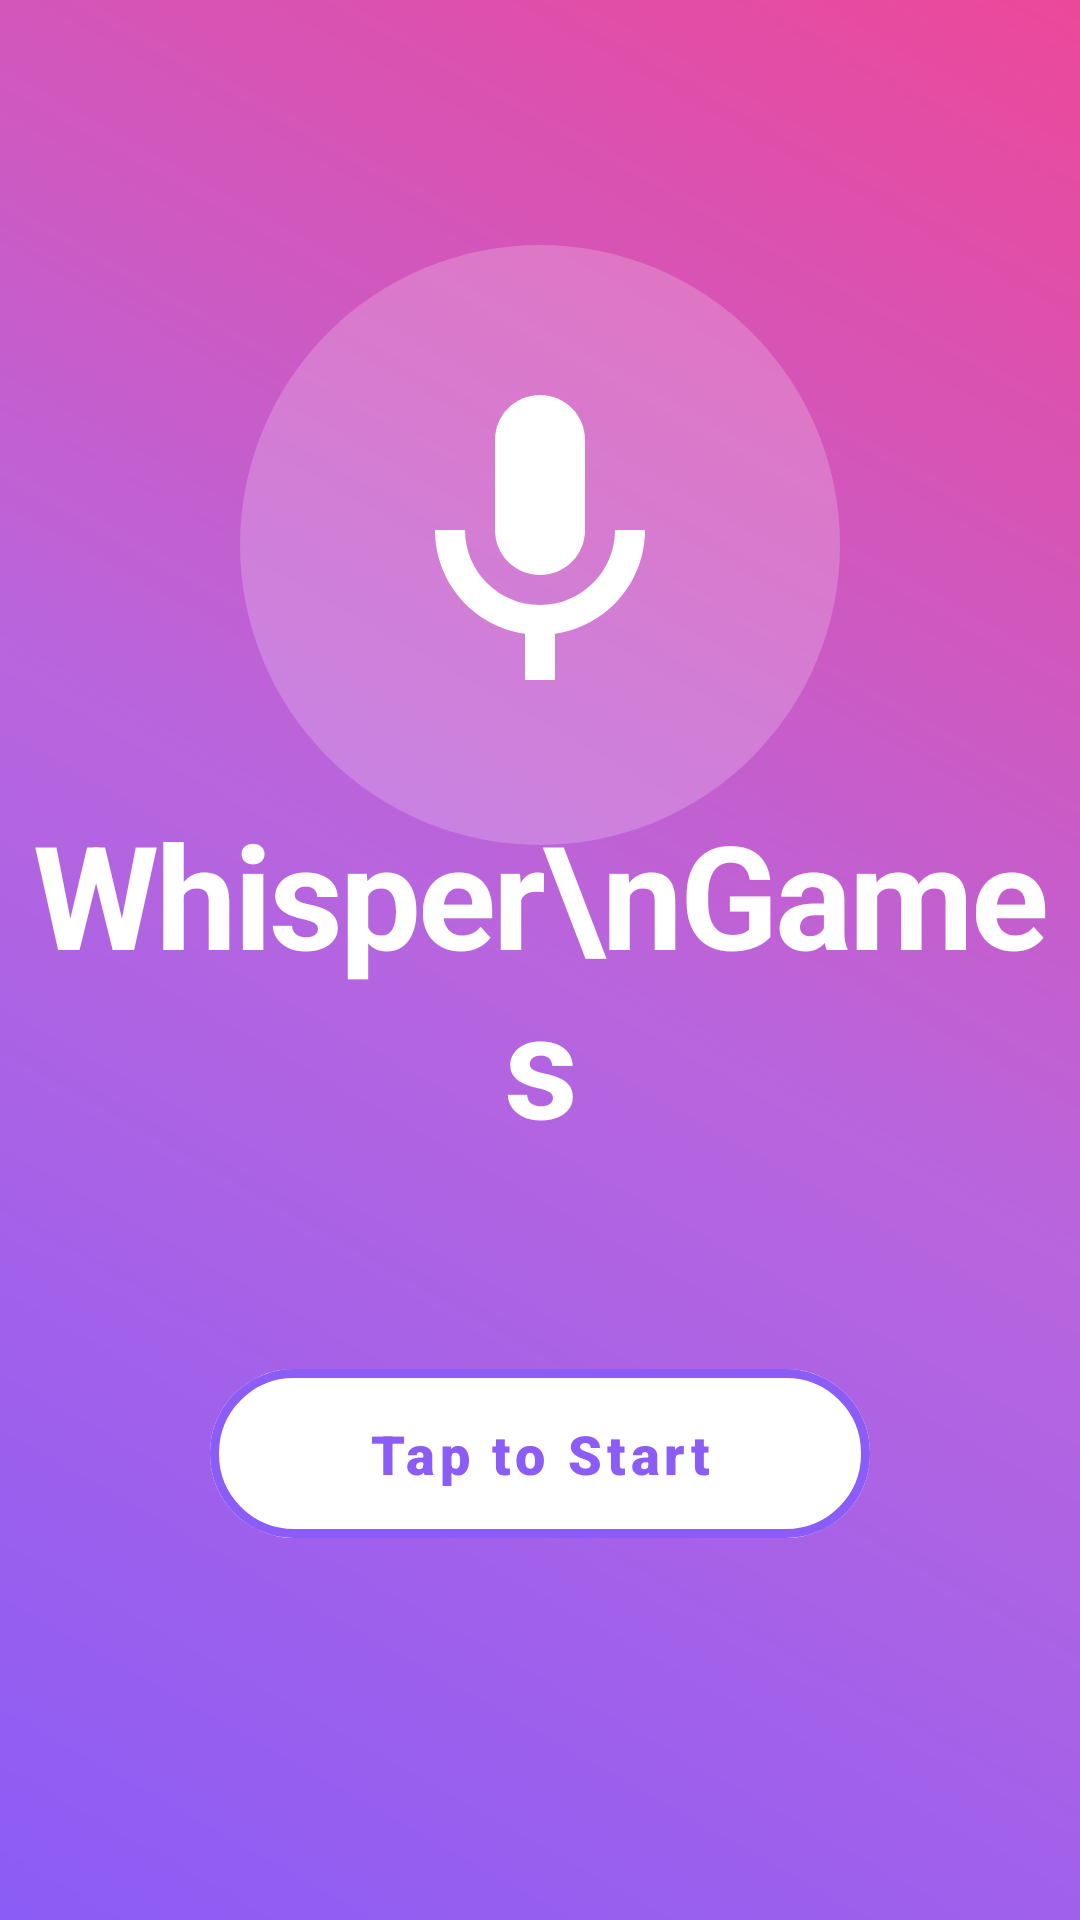

Icons on this 1080 × 1920 Android screen, each with the point to tap as point (x, y):
mic: point (540, 537)
